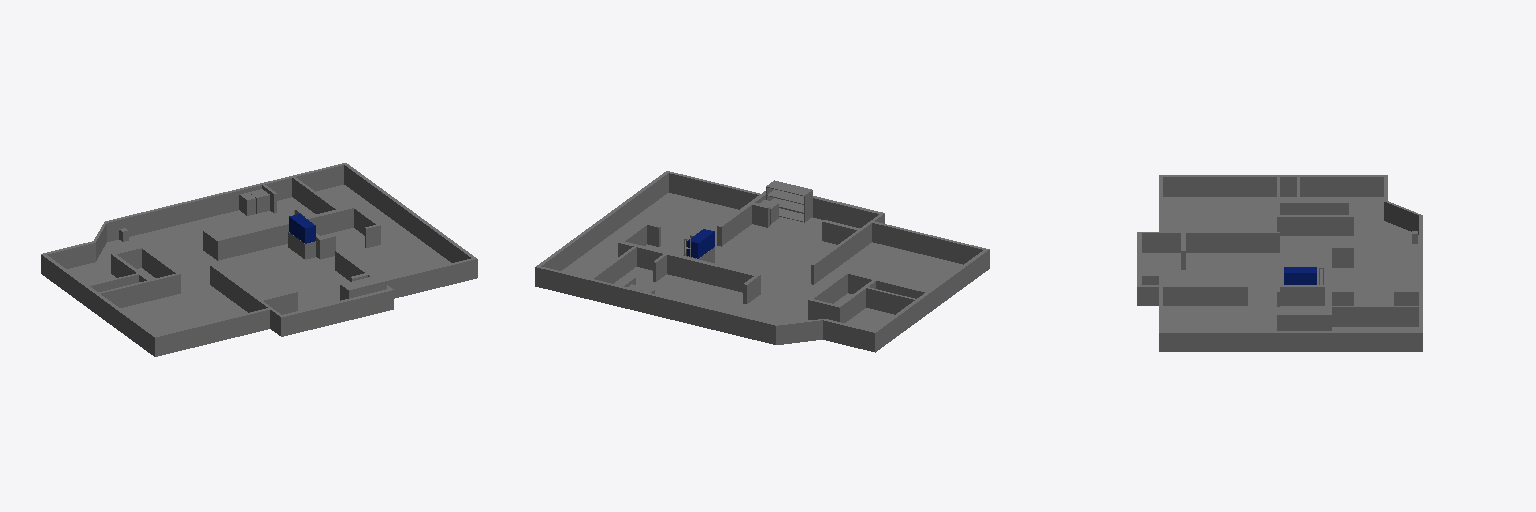
File: apartment.obj
The picture shows the model from 3 angles: view 1: azimuth 30°, elevation 25°; view 2: azimuth 150°, elevation 25°; view 3: azimuth 270°, elevation 25°; orthographic projection.
Size of the model in its own units: 47.05 by 4.98 by 36.01.